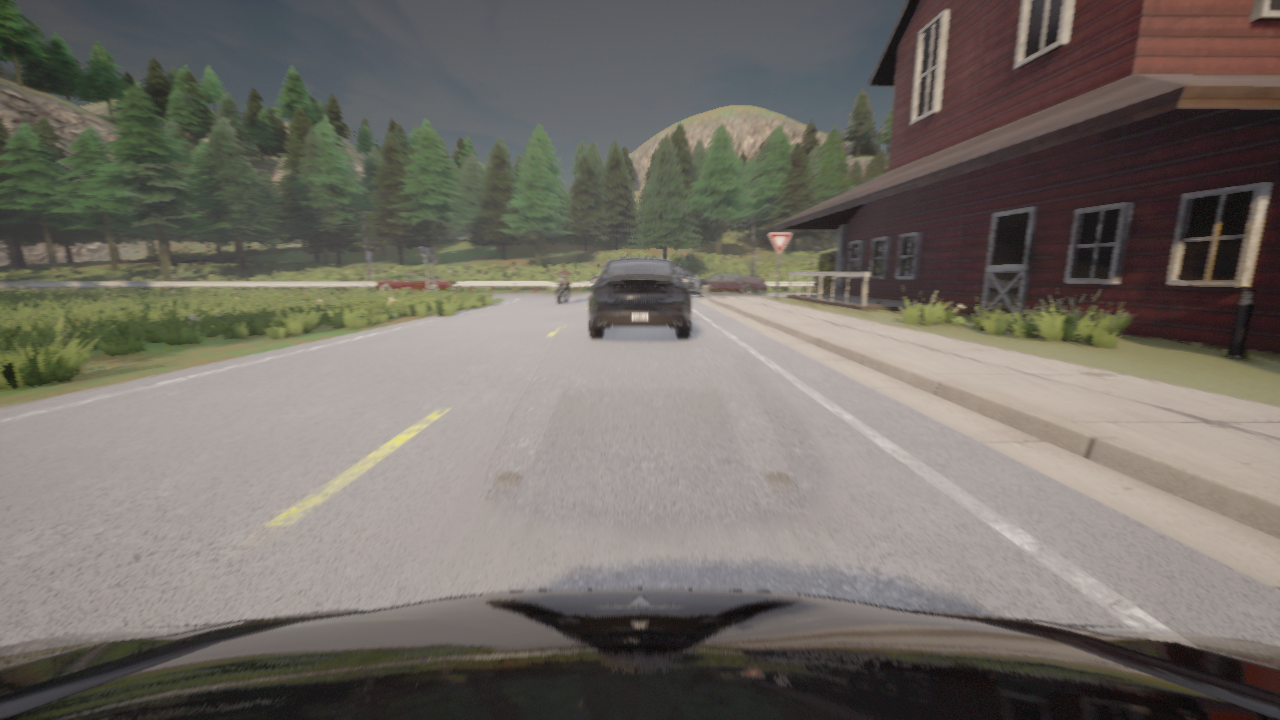cyclist: (0, 588, 1279, 719), (589, 256, 690, 338), (373, 273, 458, 292), (705, 272, 766, 294), (675, 264, 708, 296), (554, 271, 571, 304)
